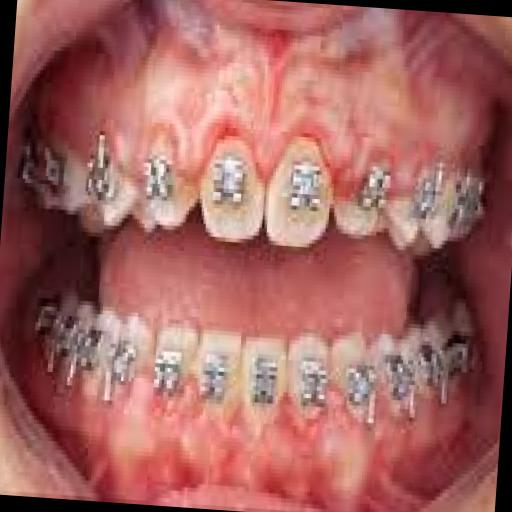incorrect_brace: (134, 123, 204, 237), (333, 132, 396, 247), (204, 145, 252, 216)
